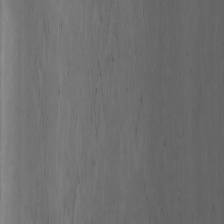silk_spot: (68, 12, 144, 157)
